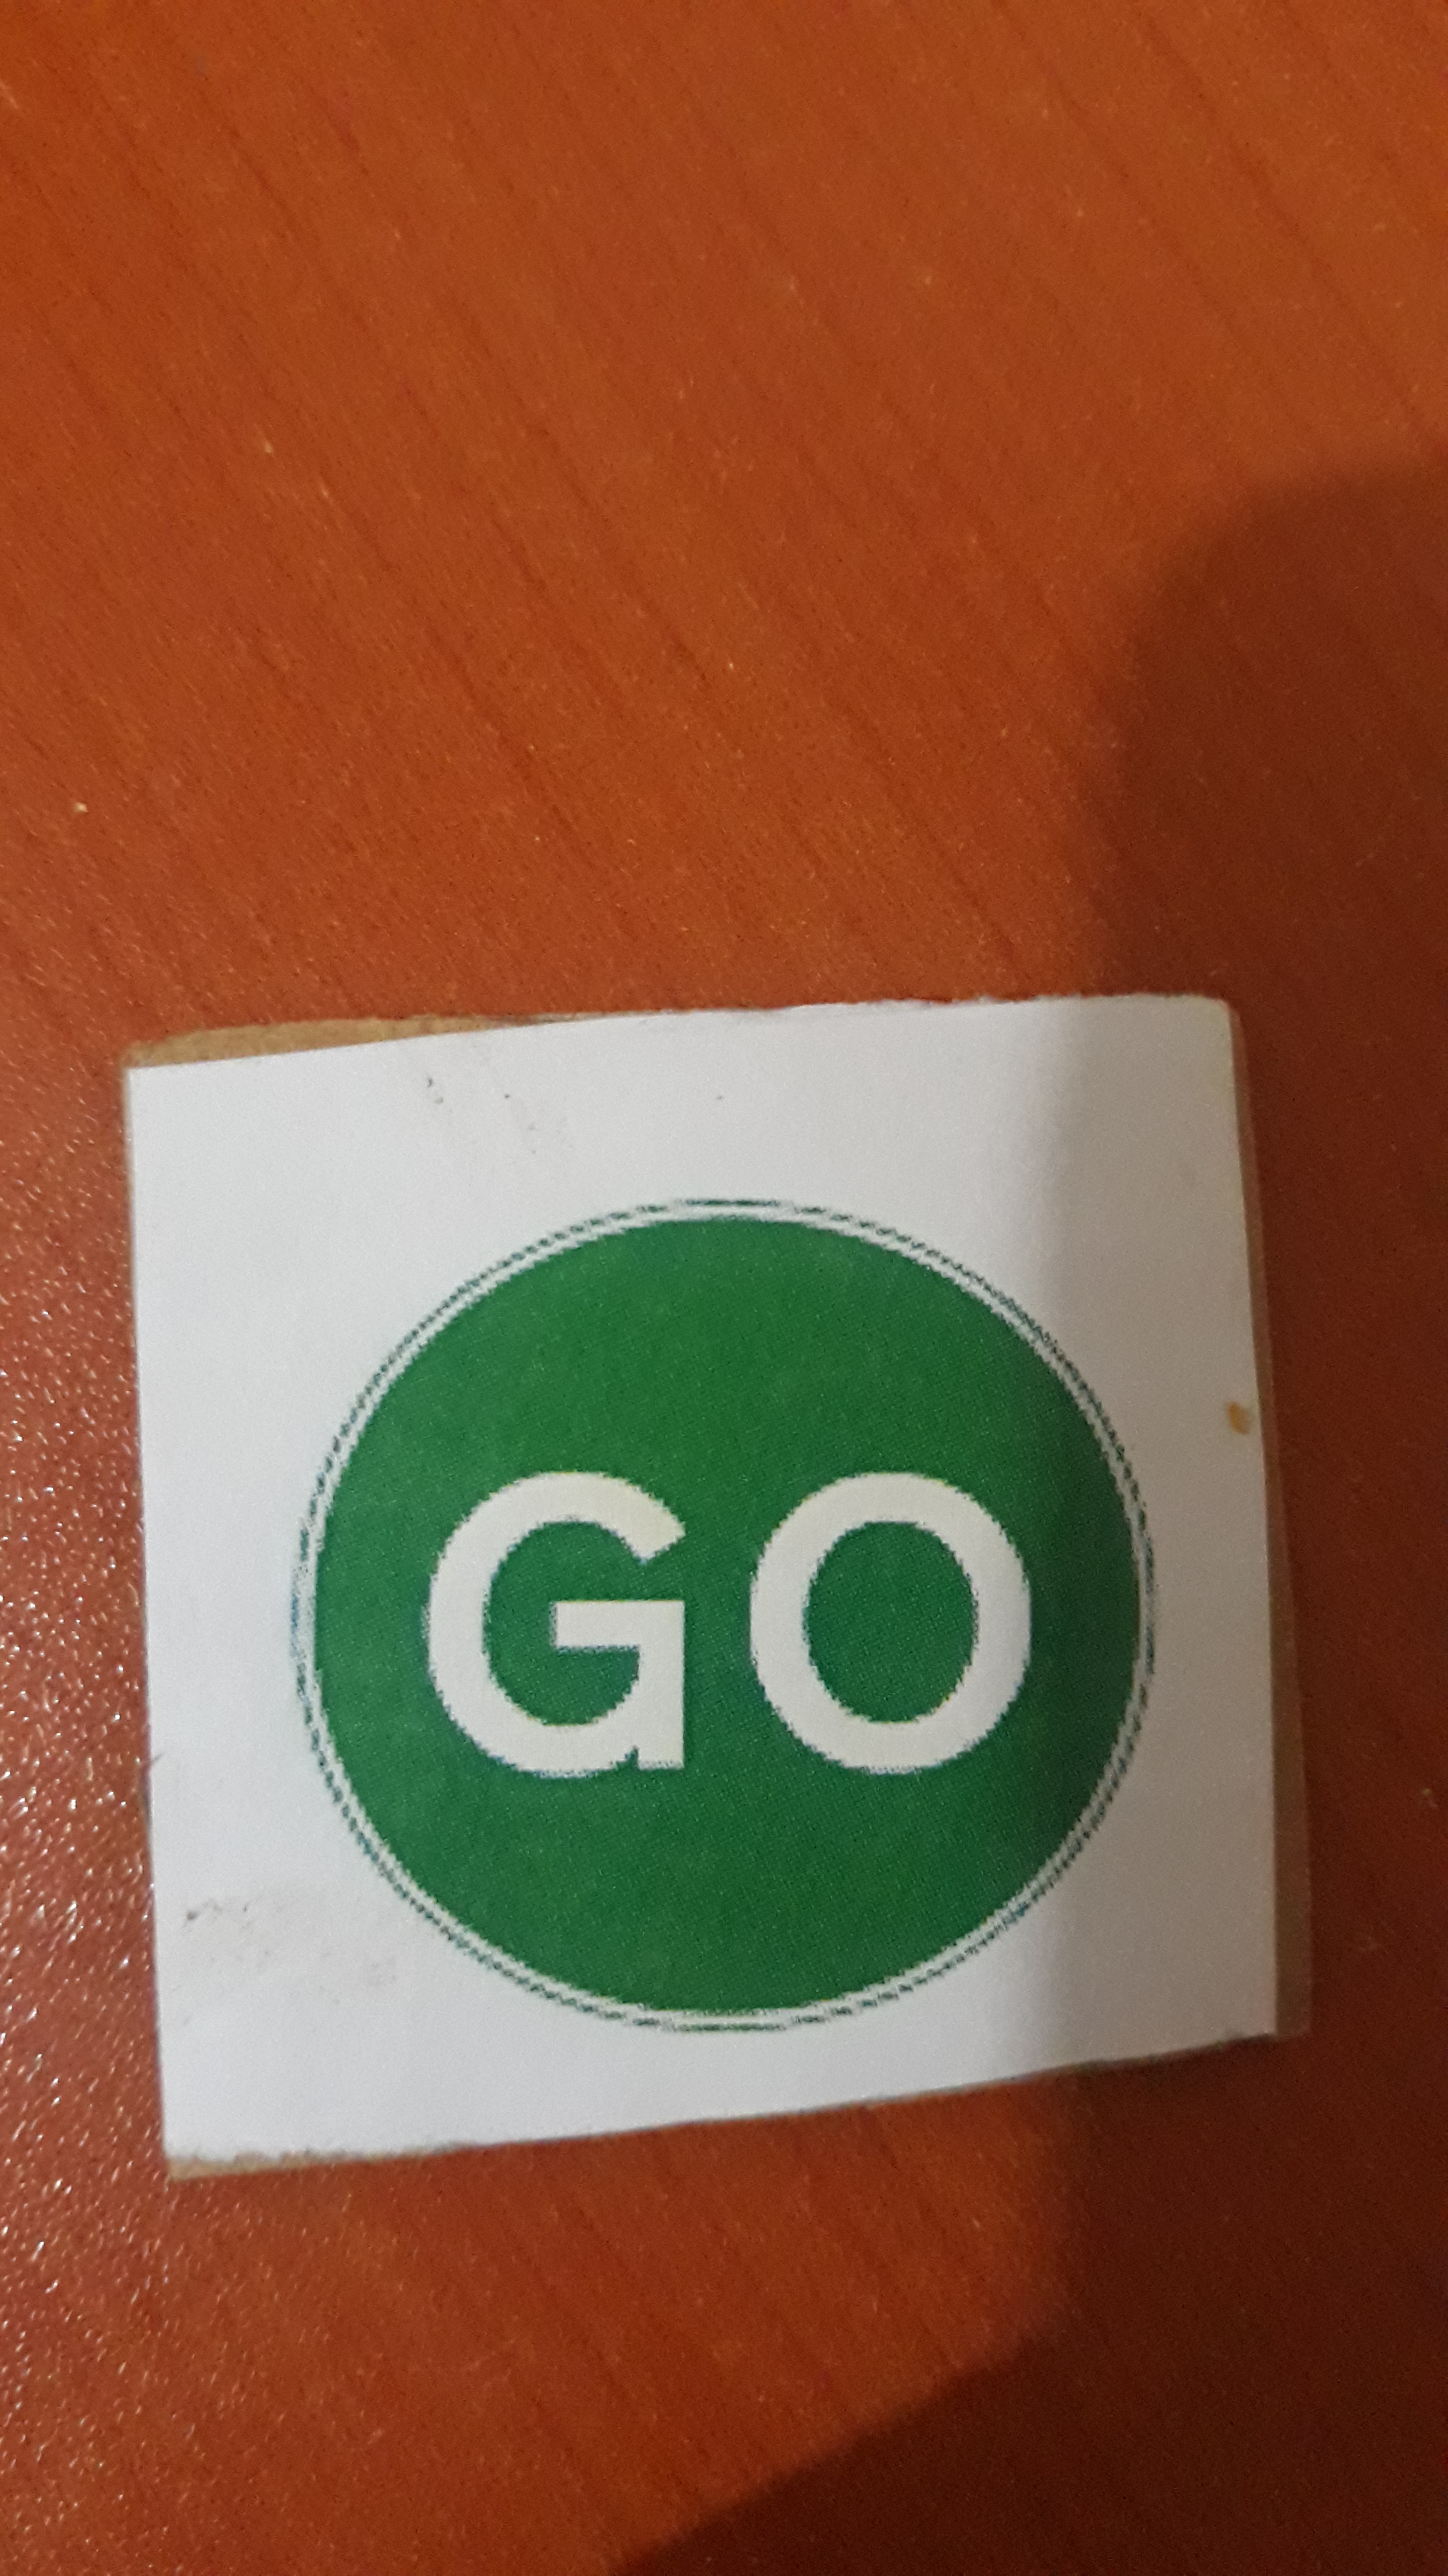go: (283, 1168, 1220, 2043)
